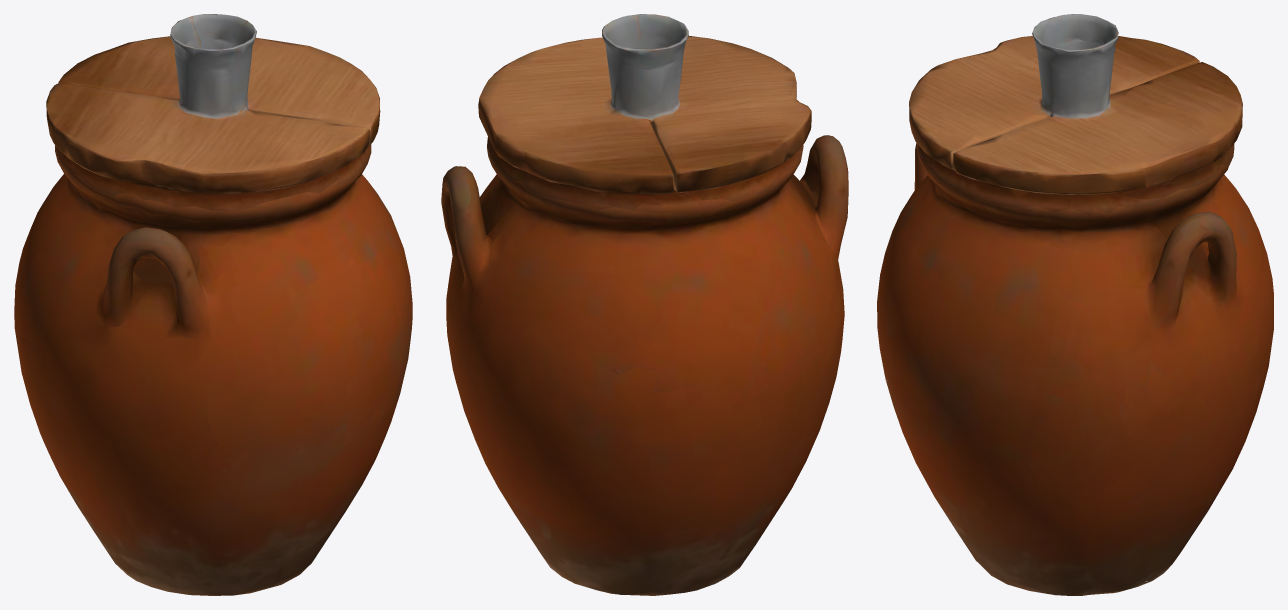
The model's file is tinaja.glb.
3 renders of one model, left to right at view 1: azimuth 30°, elevation 25°; view 2: azimuth 150°, elevation 25°; view 3: azimuth 270°, elevation 25°, orthographic.
Parts seen in each view (by area): view 1: geometry_0; view 2: geometry_0; view 3: geometry_0.
Boxes of the visible parts, bbox=[...] form: geometry_0: bbox=[14, 14, 412, 595]; geometry_0: bbox=[441, 14, 848, 595]; geometry_0: bbox=[877, 14, 1273, 595].
Bounding box in the file's own units: 0.55 × 0.8 × 0.5497.
Materials: 1 (1 with a texture image).
